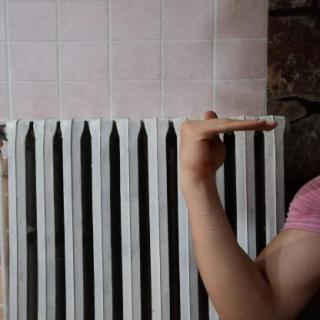KHAA: (164, 104, 294, 189)
